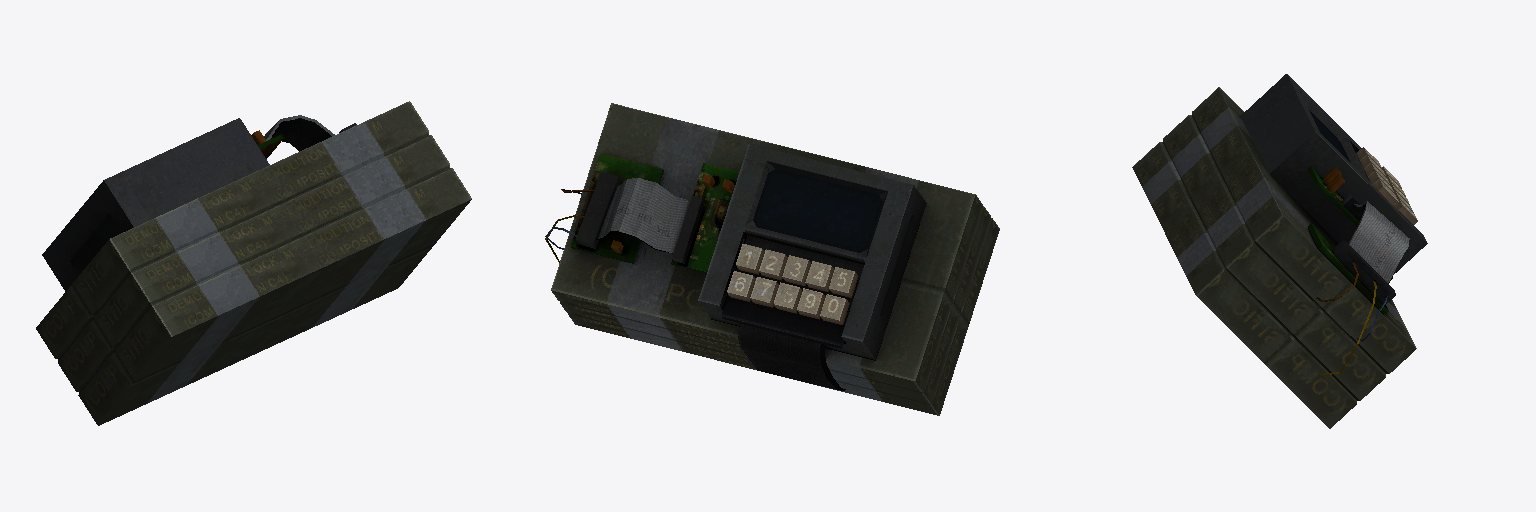
3 views of the same model, side by side, from view 1: azimuth 30°, elevation 25°; view 2: azimuth 150°, elevation 25°; view 3: azimuth 270°, elevation 25° (orthographic).
Visible parts, largest first — view 1: w_c4_reference; view 2: w_c4_reference; view 3: w_c4_reference.
Boxes of the visible parts, box(x1,y1,x2,y2) form: w_c4_reference: box(36, 101, 471, 425); w_c4_reference: box(545, 103, 999, 415); w_c4_reference: box(1132, 74, 1427, 428).
Bounding box in the file's own units: 10.64 × 6.91 × 7.41.
1 materials, 1 textured.